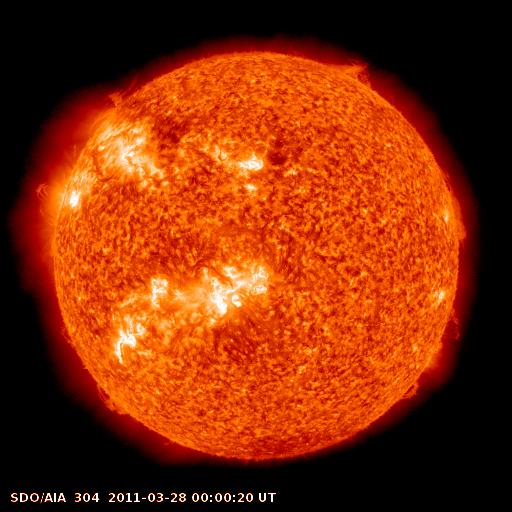prominence: (83, 67, 150, 140), (435, 160, 475, 246), (316, 49, 379, 92), (88, 375, 136, 421), (438, 301, 478, 345), (51, 317, 86, 354), (390, 374, 428, 408)
